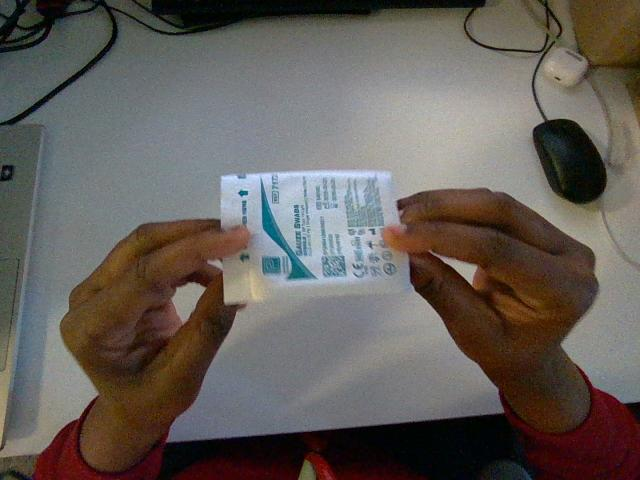gauze: (221, 171, 410, 303)
